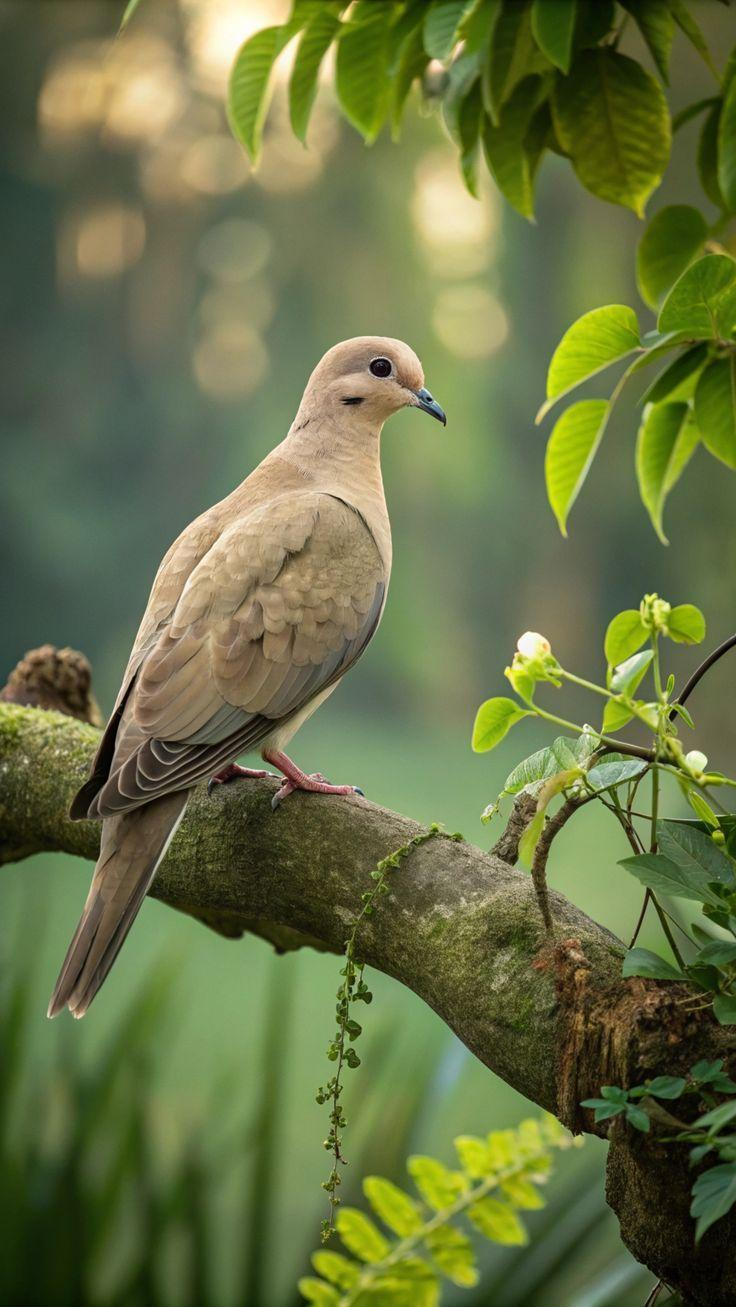pigeon: (49, 337, 444, 1016)
